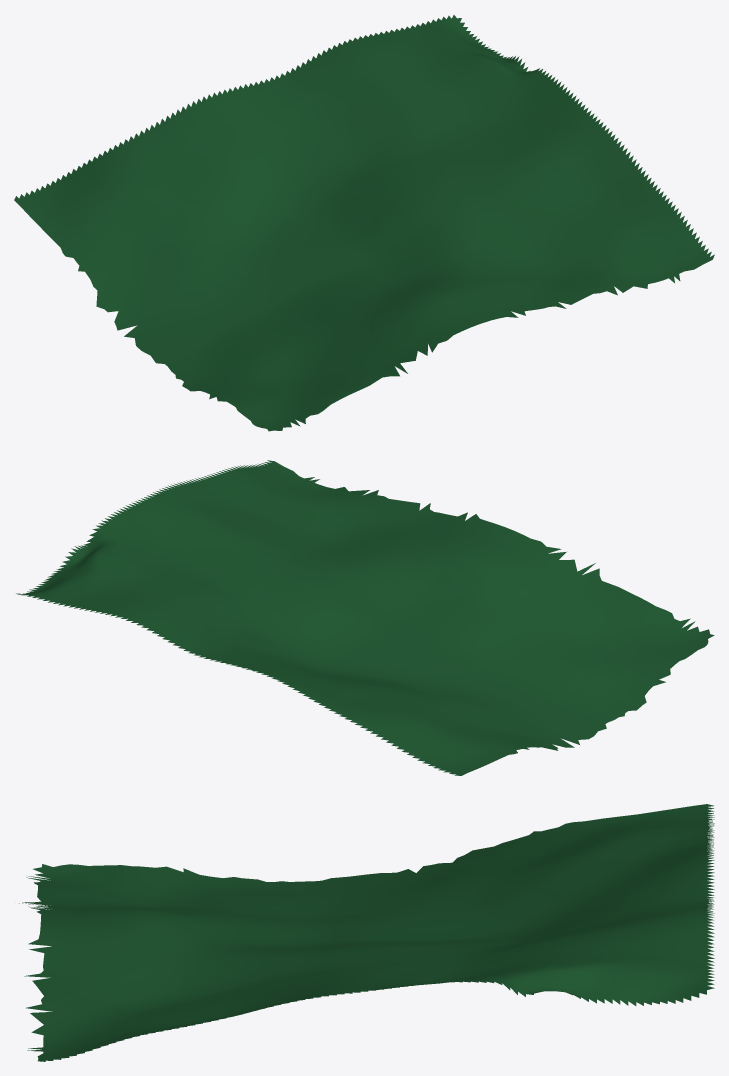
The model's file is payo_land_x2_y2_lod1.glb.
The picture shows the model from 3 angles, top to bottom: view 1: azimuth 30°, elevation 25°; view 2: azimuth 150°, elevation 25°; view 3: azimuth 270°, elevation 25°; orthographic projection. The views are drawn at different scales.
Parts seen in each view (by area): view 1: payo_land_x2_y2; view 2: payo_land_x2_y2; view 3: payo_land_x2_y2.
Boxes of the visible parts, x1,y1,x2,y2 form: payo_land_x2_y2: (14, 15, 714, 431); payo_land_x2_y2: (16, 460, 714, 775); payo_land_x2_y2: (19, 804, 714, 1061).
Bounding box in the file's own units: 262 × 78.03 × 267.
